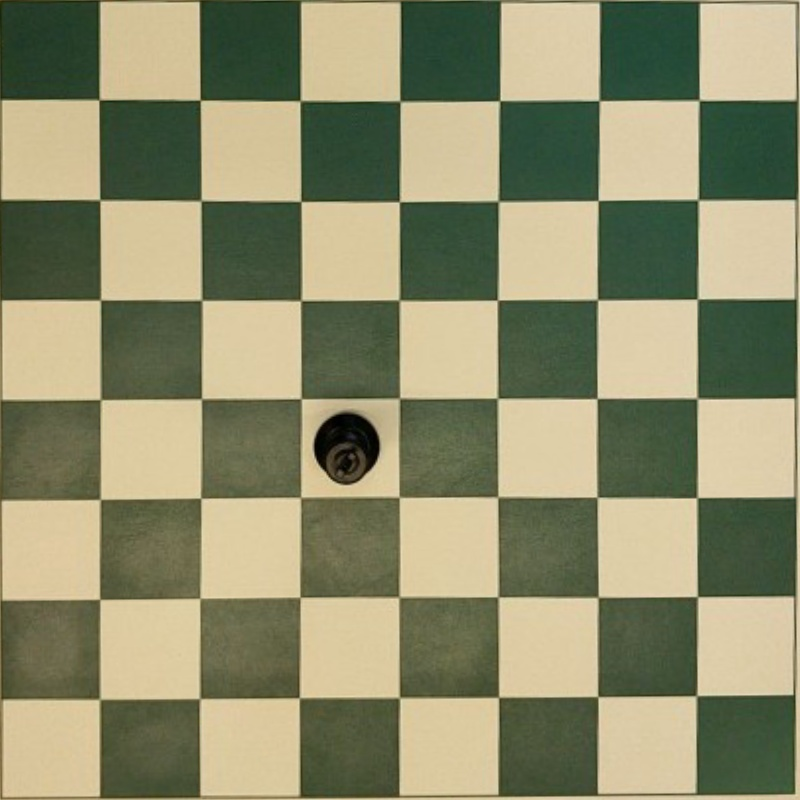black-king: (313, 412, 380, 484)
